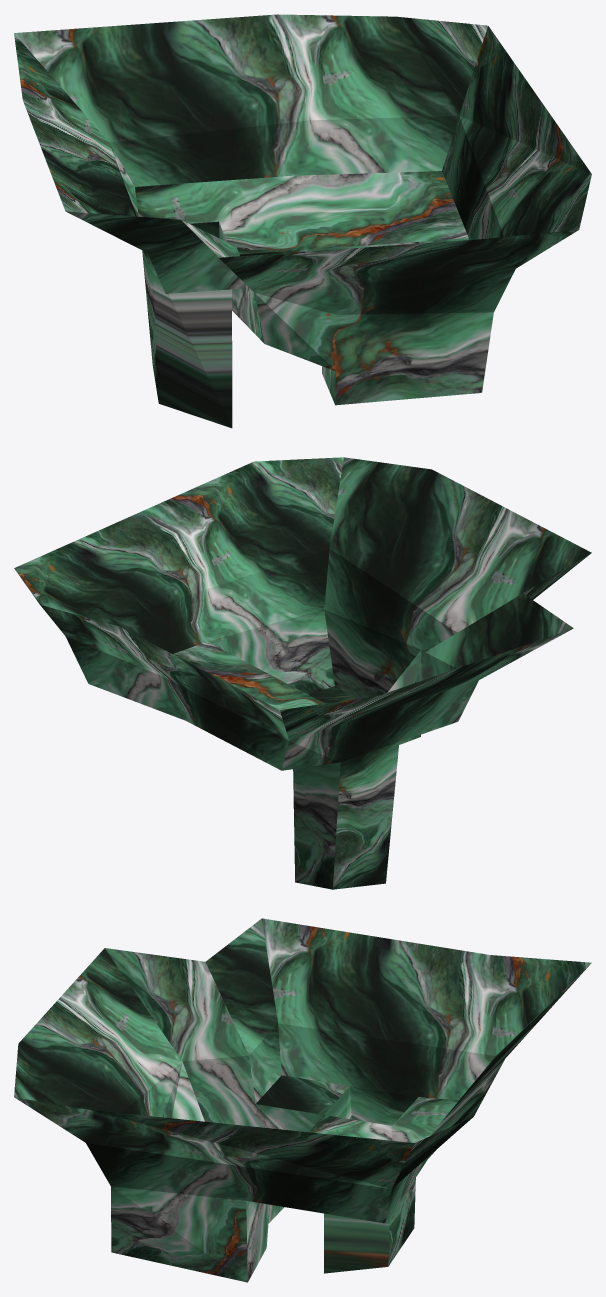
File: Floor_GreenStrips.001.gltf
3 renders of one model, top to bottom at view 1: azimuth 30°, elevation 25°; view 2: azimuth 150°, elevation 25°; view 3: azimuth 270°, elevation 25°, orthographic. The views are drawn at different scales.
Visible parts, largest first — view 1: Floor_GreenStrips.001; view 2: Floor_GreenStrips.001; view 3: Floor_GreenStrips.001.
Boxes of the visible parts, left/top/right/bottom form: Floor_GreenStrips.001: left=14, top=14, right=591, bottom=428; Floor_GreenStrips.001: left=14, top=457, right=591, bottom=889; Floor_GreenStrips.001: left=14, top=918, right=591, bottom=1282.
Size of the model in its own units: 139 by 80.29 by 150.
Materials: 1 (1 with a texture image).
